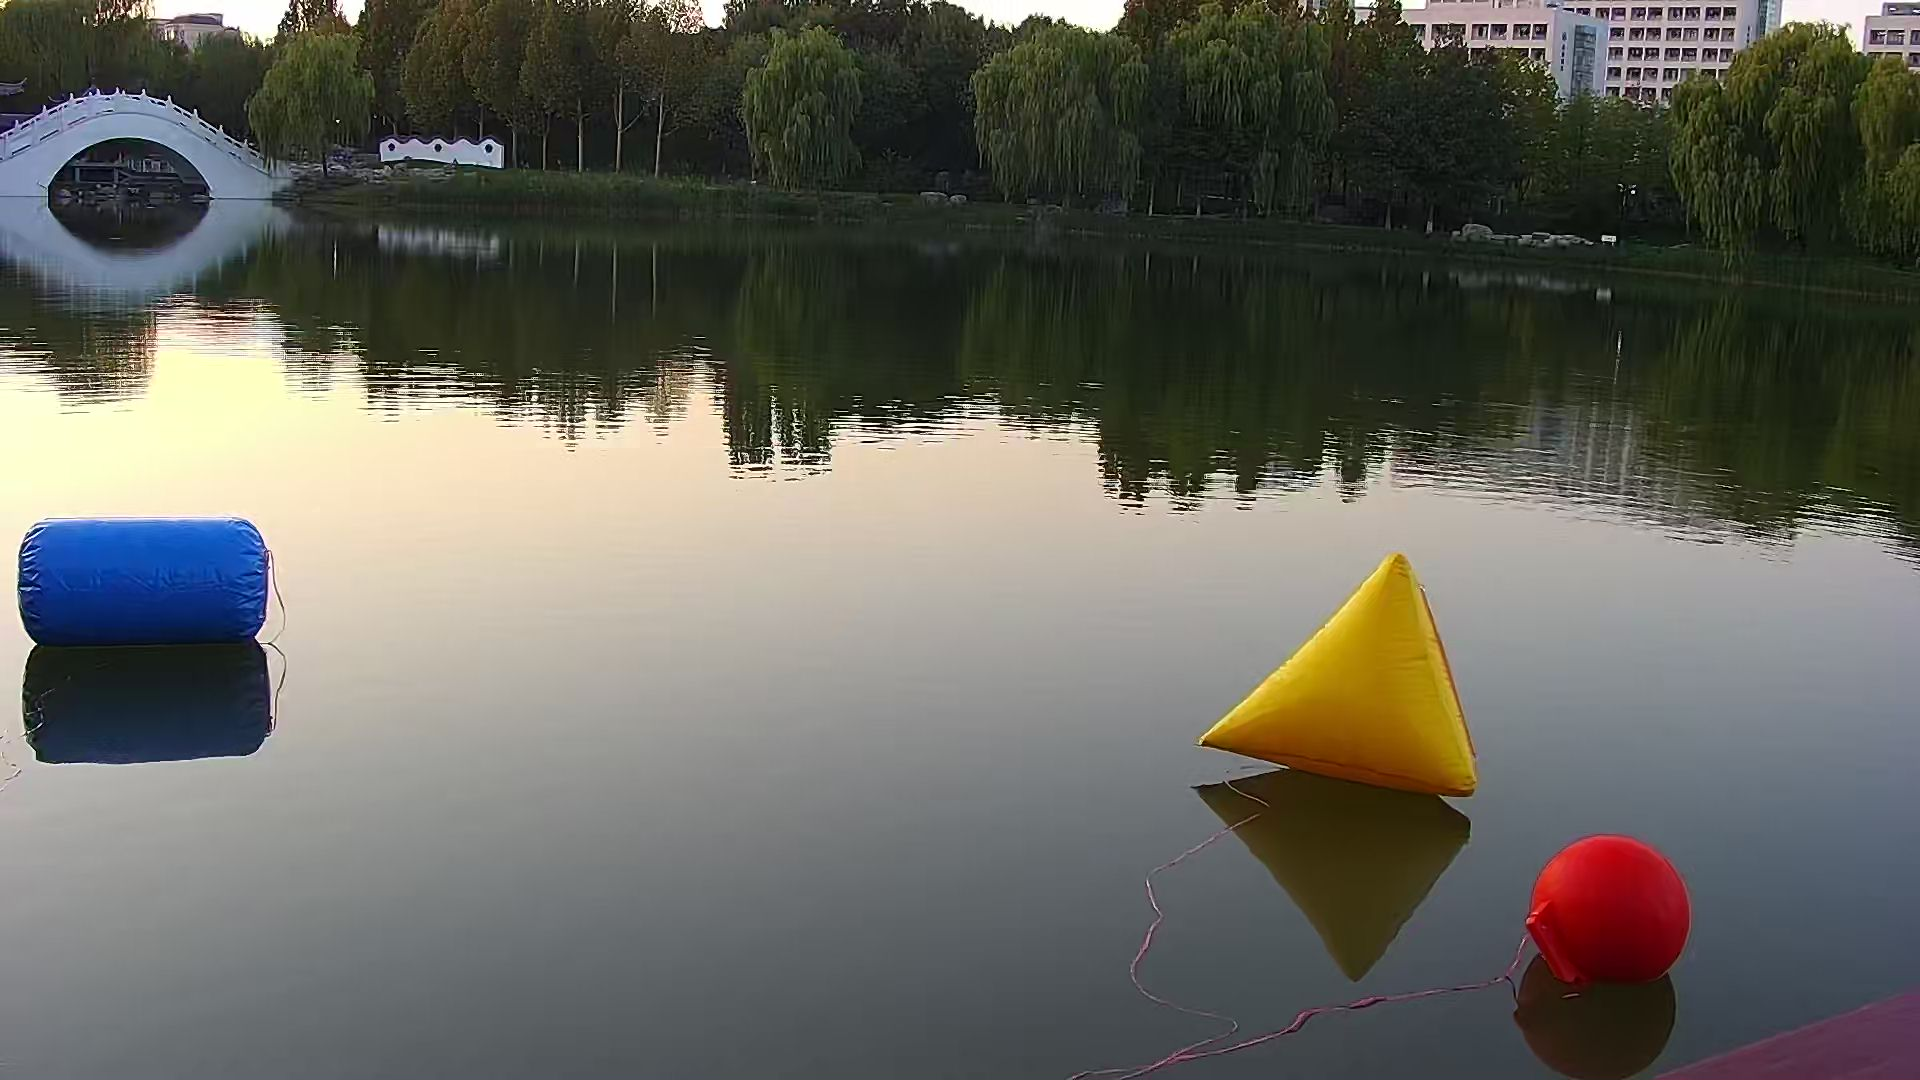ball: (1513, 823, 1695, 992)
bridge: (1, 90, 301, 212)
rubbish: (1207, 545, 1482, 800), (18, 506, 284, 658)
